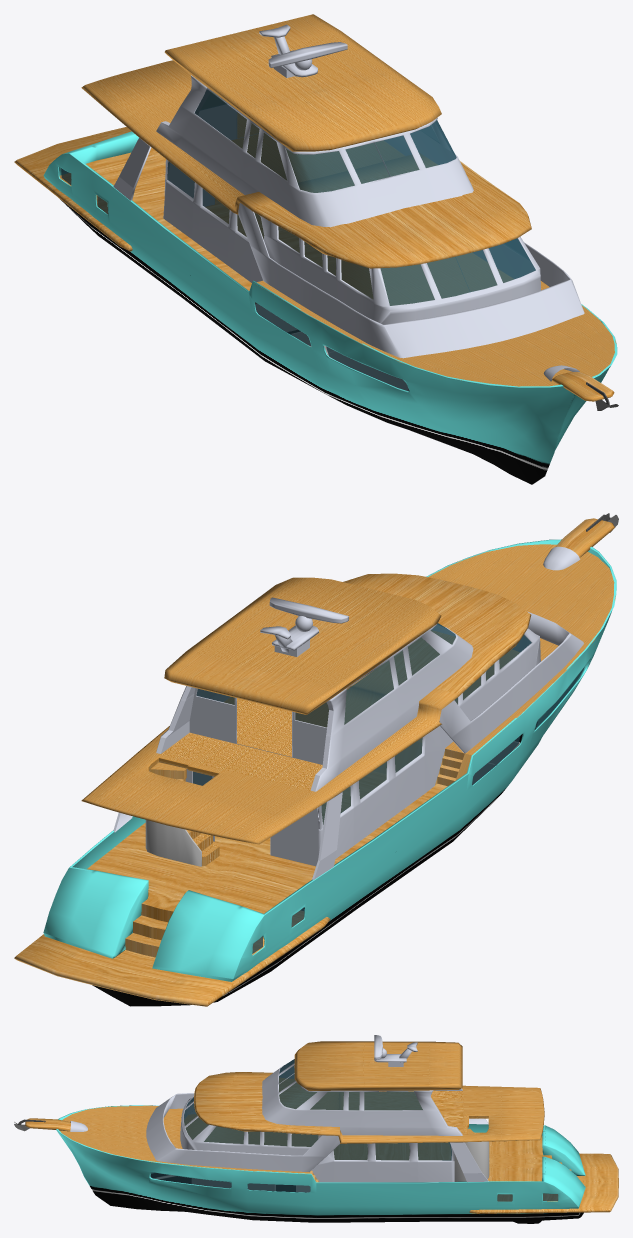
Rendered from Marlow66.obj.
The picture shows the model from 3 angles, top to bottom: view 1: azimuth 30°, elevation 25°; view 2: azimuth 150°, elevation 25°; view 3: azimuth 270°, elevation 25°; orthographic projection. The views are drawn at different scales.
Visible parts, largest first — view 1: Hull_Plane, Cabin_Cube, FloorSecond_Cube.002, FloorTop_Cube.003, CabinTop_Cube.001, FloorFirst_Plane.002, TopCabinWindows_Cube.005, Cabin.Windows_Cube.004, HullBottom_Plane.003, Platform_Plane.001, RadarAssy_Cube.010, WindowsHull_Plane.006 (+3 smaller); view 2: Hull_Plane, FloorSecond_Cube.002, FloorTop_Cube.003, Cabin_Cube, HullBottom_Plane.003, FloorFirst_Plane.002, CabinTop_Cube.001, Platform_Plane.001, BackWalls_Plane.014, TopCabinWindows_Cube.005, RadarAssy_Cube.010, Cabin.Windows_Cube.004 (+4 smaller); view 3: Hull_Plane, FloorSecond_Cube.002, Cabin_Cube, FloorTop_Cube.003, CabinTop_Cube.001, FloorFirst_Plane.002, HullBottom_Plane.003, Cabin.Windows_Cube.004, Platform_Plane.001, TopCabinWindows_Cube.005, WindowsHull_Plane.006, StairsCover_Plane.007 (+3 smaller).
Boxes of the visible parts, x1,y1,x2,y2 form: Hull_Plane: (43,131,617,484); Cabin_Cube: (113,137,584,381); FloorSecond_Cube.002: (81,60,531,268); FloorTop_Cube.003: (164,14,441,151); CabinTop_Cube.001: (156,75,473,227); FloorFirst_Plane.002: (257,253,616,386); TopCabinWindows_Cube.005: (194,89,456,192); Cabin.Windows_Cube.004: (167,161,535,305); HullBottom_Plane.003: (86,147,342,303); Platform_Plane.001: (14,127,132,251); RadarAssy_Cube.010: (259,24,347,77); WindowsHull_Plane.006: (61,168,409,391); Hull_Plane: (43,539,616,1006); FloorSecond_Cube.002: (81,573,531,844); FloorTop_Cube.003: (164,577,441,714); Cabin_Cube: (113,546,583,879); HullBottom_Plane.003: (87,742,471,957); FloorFirst_Plane.002: (417,544,615,754); CabinTop_Cube.001: (156,624,473,791); Platform_Plane.001: (14,911,330,1006); BackWalls_Plane.014: (185,688,328,866); TopCabinWindows_Cube.005: (344,623,455,724); RadarAssy_Cube.010: (260,597,348,656); Cabin.Windows_Cube.004: (321,635,531,824); Hull_Plane: (56,1105,585,1222); FloorSecond_Cube.002: (194,1072,544,1143); Cabin_Cube: (70,1093,488,1182); FloorTop_Cube.003: (294,1041,462,1090); CabinTop_Cube.001: (262,1063,462,1135); FloorFirst_Plane.002: (60,1105,309,1174); HullBottom_Plane.003: (310,1132,571,1182); Cabin.Windows_Cube.004: (184,1097,451,1160); Platform_Plane.001: (469,1153,618,1213); TopCabinWindows_Cube.005: (279,1059,422,1110); WindowsHull_Plane.006: (150,1172,558,1201); StairsCover_Plane.007: (454,1141,489,1181).
Size of what is drawn, in the model's own units: 5.64 by 7.28 by 22.48.
Materials: 7 (2 with a texture image).
